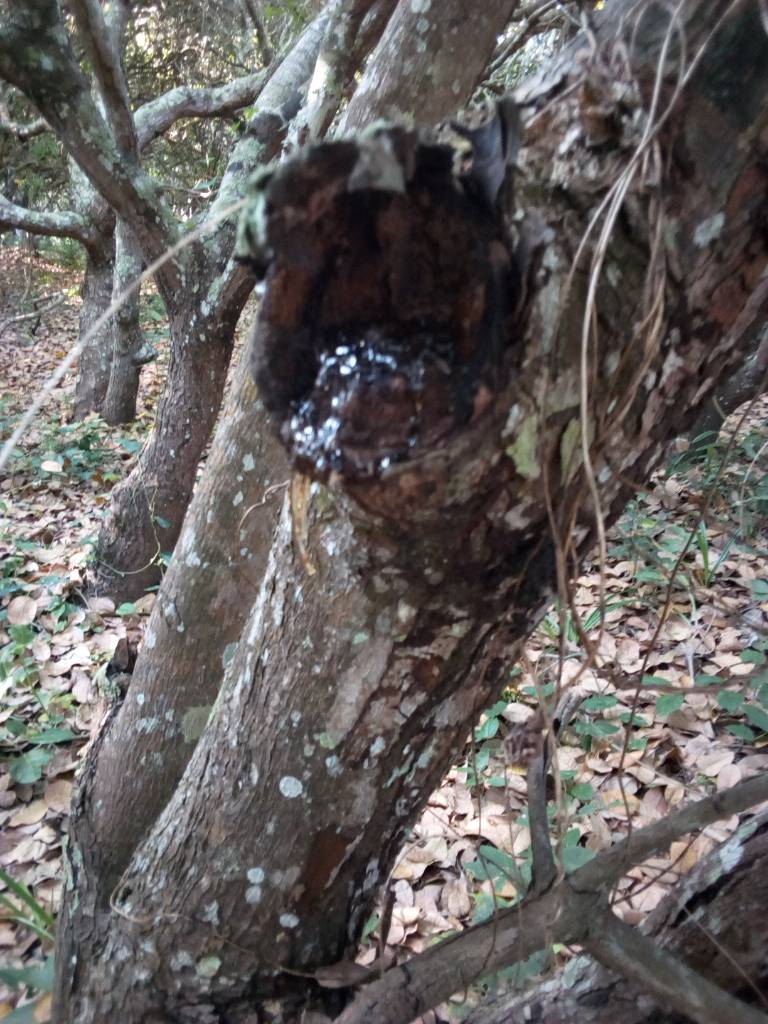ploceadorus ferrugineus: (217, 91, 543, 535)
